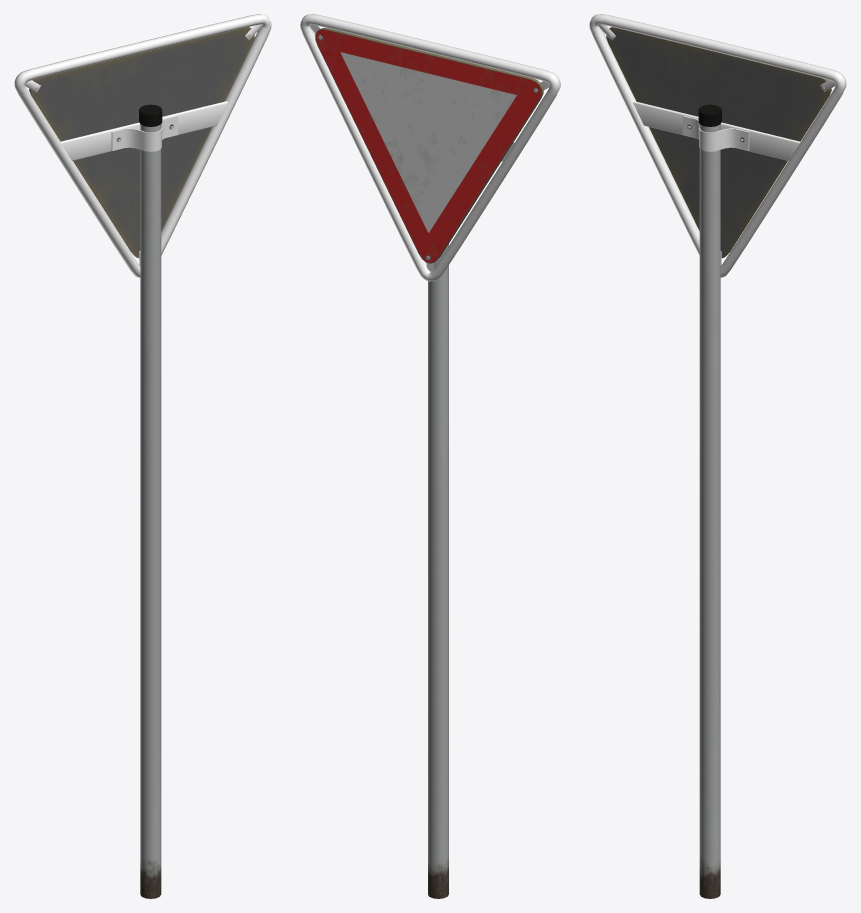
Rendered from Vortritt.glb.
3 views of the same model, side by side, from view 1: azimuth 30°, elevation 25°; view 2: azimuth 150°, elevation 25°; view 3: azimuth 330°, elevation 25° (orthographic).
Visible parts, largest first — view 1: SM_Sign_CH_Triangle_single, SM_Sign_Pole_large; view 2: SM_Sign_CH_Triangle_single, SM_Sign_Pole_large; view 3: SM_Sign_CH_Triangle_single, SM_Sign_Pole_large.
Part boxes in pixels (x1,y1,x2,y2): SM_Sign_CH_Triangle_single: (14,14,271,277); SM_Sign_Pole_large: (139,104,162,898); SM_Sign_CH_Triangle_single: (300,14,560,281); SM_Sign_Pole_large: (428,244,448,898); SM_Sign_CH_Triangle_single: (589,14,846,277); SM_Sign_Pole_large: (698,104,721,898).
Bounding box in the file's own units: 0.8503 × 2.7 × 0.0961.
3 materials, 3 textured.
